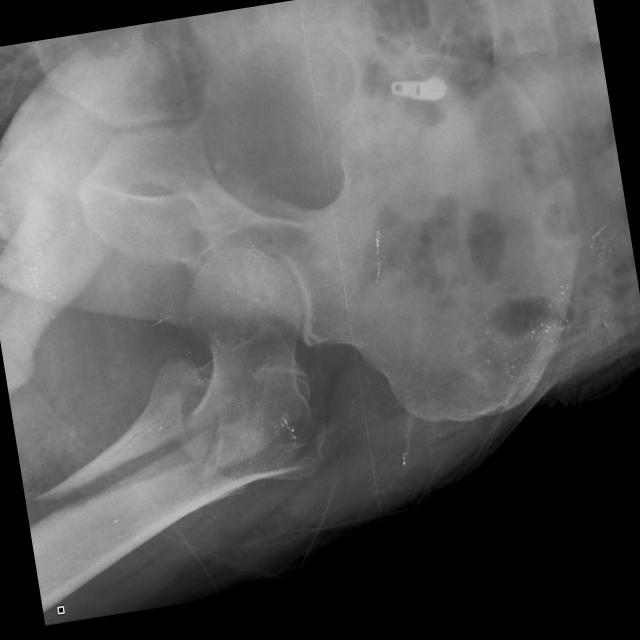left-intertrochanteric: (45, 424, 324, 584), (186, 246, 323, 432)
left-lesser-trochanter: (32, 359, 205, 499)
